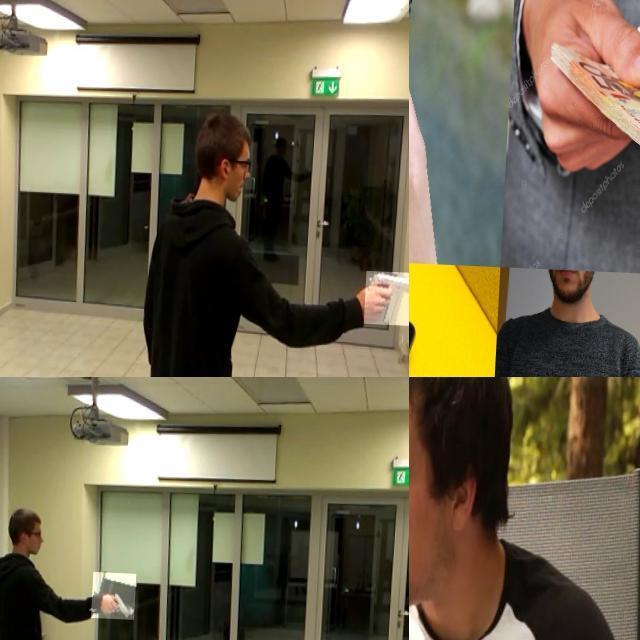gun-knife-thesis - v11 Yolov5 augmented: (368, 265, 409, 321), (94, 571, 140, 618)
